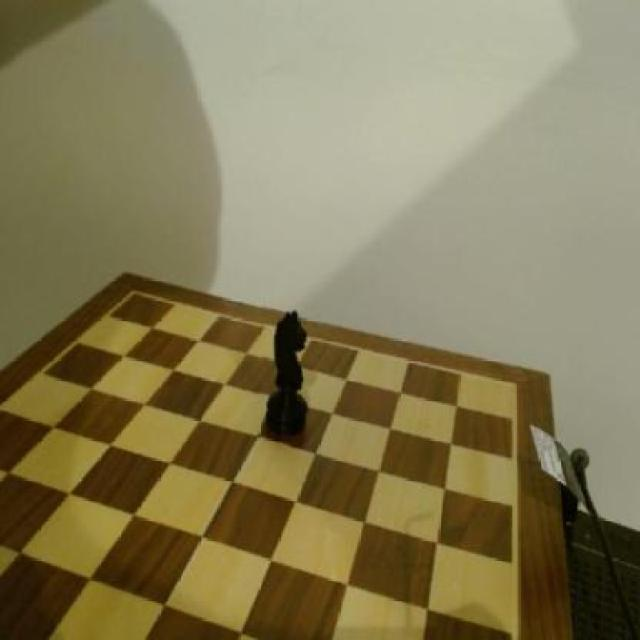black-king: (262, 297, 319, 447)
